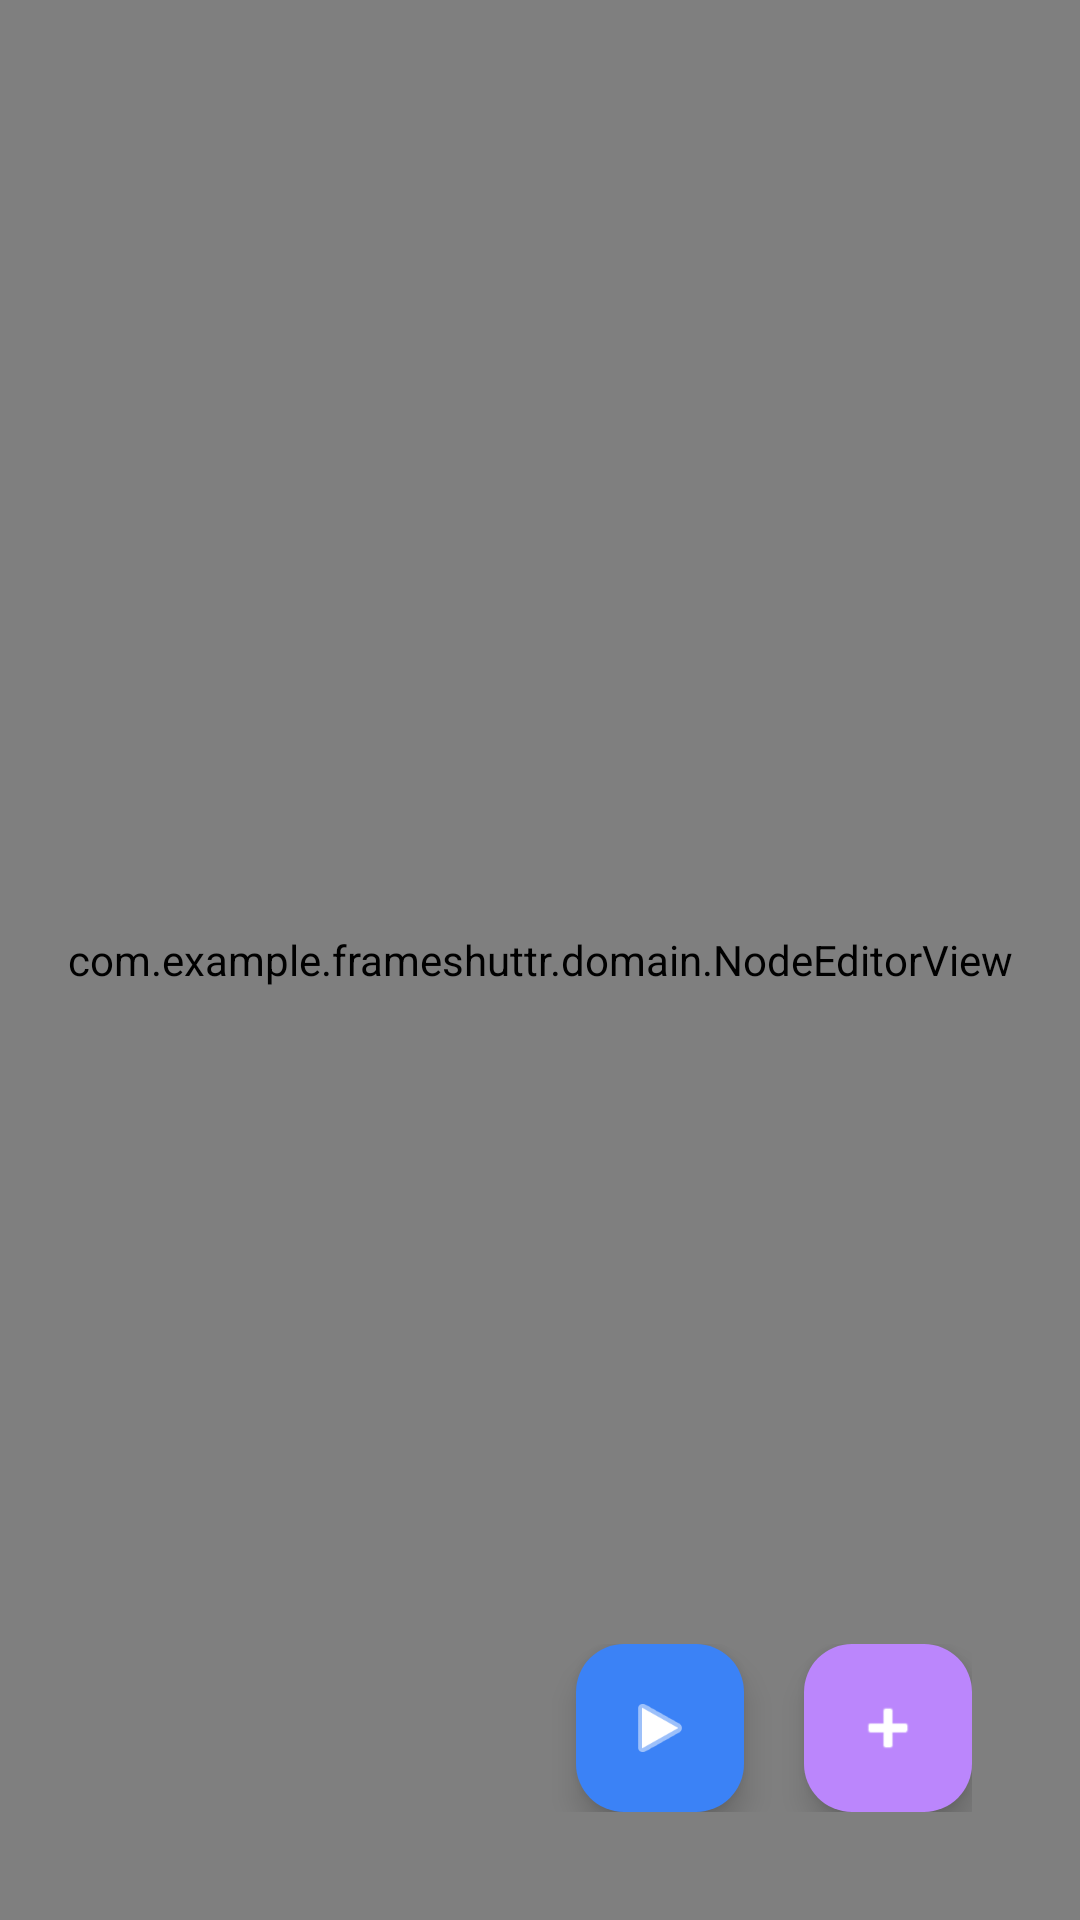

Screen size 1080px x 1920px. Icon name, then its center in pixels as (x,y):
add: (888,1728)
play: (660,1728)
